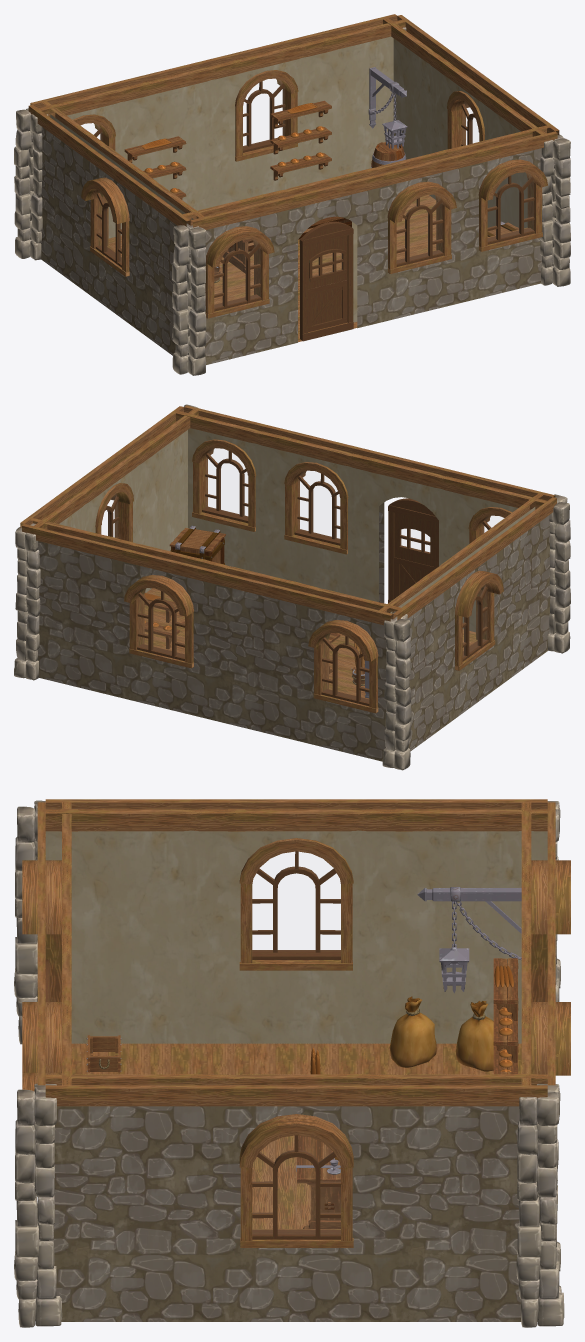
File: boulangerie.glb
3 views of the same model, one above another, from view 1: azimuth 30°, elevation 25°; view 2: azimuth 150°, elevation 25°; view 3: azimuth 270°, elevation 25° (orthographic). The views are drawn at different scales.
Visible parts, largest first — view 1: Piece_Wall_UnevenBrick_Straight.001, Piece_Wall_UnevenBrick_Straight.002, MurAvant_Wall_UnevenBrick_Window_Wide_Round.002, Piece_Wall_UnevenBrick_Window_Wide_Round.004, MurAvant_Wall_UnevenBrick_Door_Round.001, MurAvant_Wall_UnevenBrick_Window_Wide_Round.003, Piece_Wall_UnevenBrick_Straight.003, MurAvant_Wall_UnevenBrick_Window_Wide_Round.001, Piece_Wall_UnevenBrick_Straight.004, Piece_Wall_UnevenBrick_Straight.006, MurAvant_Door_1_Round.001, Piece_Wall_UnevenBrick_Window_Wide_Round.006 (+23 smaller); view 2: Piece_Wall_UnevenBrick_Straight.002, Piece_Wall_UnevenBrick_Straight.001, Piece_Wall_UnevenBrick_Window_Wide_Round.004, MurAvant_Wall_UnevenBrick_Window_Wide_Round.002, Piece_Wall_UnevenBrick_Window_Wide_Round.005, Piece_Wall_UnevenBrick_Straight.004, MurAvant_Wall_UnevenBrick_Door_Round.001, MurAvant_Wall_UnevenBrick_Window_Wide_Round.003, Piece_Wall_UnevenBrick_Straight.003, Piece_Wall_UnevenBrick_Straight.005, Piece_Wall_UnevenBrick_Window_Wide_Round.006, Piece_Window_Wide_Round1.004 (+16 smaller); view 3: Piece_Wall_UnevenBrick_Straight.005, Piece_Wall_UnevenBrick_Straight.004, Piece_Wall_UnevenBrick_Straight.006, Piece_Wall_UnevenBrick_Straight.003, Piece_Wall_UnevenBrick_Window_Wide_Round.007, Piece_Wall_UnevenBrick_Window_Wide_Round.006, Piece_Corner_Exterior_Brick.004, MurAvant_Corner_Exterior_Brick.002, Piece_Window_Wide_Round1.007, Piece_Window_Wide_Round1.006, Piece_Floor_WoodLight.002, Piece_Floor_WoodLight.001 (+23 smaller).
Boxes of the visible parts, x1,y1,x2,y2 form: Piece_Wall_UnevenBrick_Straight.001: (304,14,405,182); Piece_Wall_UnevenBrick_Straight.002: (122,58,223,210); MurAvant_Wall_UnevenBrick_Window_Wide_Round.002: (364,147,466,324); Piece_Wall_UnevenBrick_Window_Wide_Round.004: (213,36,314,204); MurAvant_Wall_UnevenBrick_Door_Round.001: (273,170,375,346); MurAvant_Wall_UnevenBrick_Window_Wide_Round.003: (456,125,557,301); Piece_Wall_UnevenBrick_Straight.003: (28,101,99,291); MurAvant_Wall_UnevenBrick_Window_Wide_Round.001: (183,192,284,364); Piece_Wall_UnevenBrick_Straight.004: (134,178,204,355); Piece_Wall_UnevenBrick_Straight.006: (383,15,453,199); MurAvant_Door_1_Round.001: (299,221,353,341); Piece_Wall_UnevenBrick_Window_Wide_Round.006: (81,140,152,329); Piece_Wall_UnevenBrick_Straight.002: (206,563,309,741); Piece_Wall_UnevenBrick_Straight.001: (22,518,124,696); Piece_Wall_UnevenBrick_Window_Wide_Round.004: (114,540,217,718); MurAvant_Wall_UnevenBrick_Window_Wide_Round.002: (268,428,370,598); Piece_Wall_UnevenBrick_Window_Wide_Round.005: (298,585,400,761); Piece_Wall_UnevenBrick_Straight.004: (485,493,556,685); MurAvant_Wall_UnevenBrick_Door_Round.001: (360,450,462,603); MurAvant_Wall_UnevenBrick_Window_Wide_Round.003: (176,405,278,575); Piece_Wall_UnevenBrick_Straight.003: (379,571,450,751); Piece_Wall_UnevenBrick_Straight.005: (127,406,198,592); Piece_Wall_UnevenBrick_Window_Wide_Round.006: (432,532,503,724); Piece_Window_Wide_Round1.004: (124,575,193,668); Piece_Wall_UnevenBrick_Straight.005: (45,1074,212,1321); Piece_Wall_UnevenBrick_Straight.004: (45,799,212,1043); Piece_Wall_UnevenBrick_Straight.006: (380,1074,547,1321); Piece_Wall_UnevenBrick_Straight.003: (380,799,547,1043); Piece_Wall_UnevenBrick_Window_Wide_Round.007: (213,1074,380,1321); Piece_Wall_UnevenBrick_Window_Wide_Round.006: (213,799,380,1043); Piece_Corner_Exterior_Brick.004: (516,1083,564,1327); MurAvant_Corner_Exterior_Brick.002: (14,1083,62,1327); Piece_Window_Wide_Round1.007: (239,1114,353,1247); Piece_Window_Wide_Round1.006: (239,838,353,970); Piece_Floor_WoodLight.002: (213,1043,380,1074); Piece_Floor_WoodLight.001: (71,1043,212,1074).
Bounding box in the file's own units: 8.63 × 3.18 × 6.65.
Materials: 11 (9 with a texture image).
